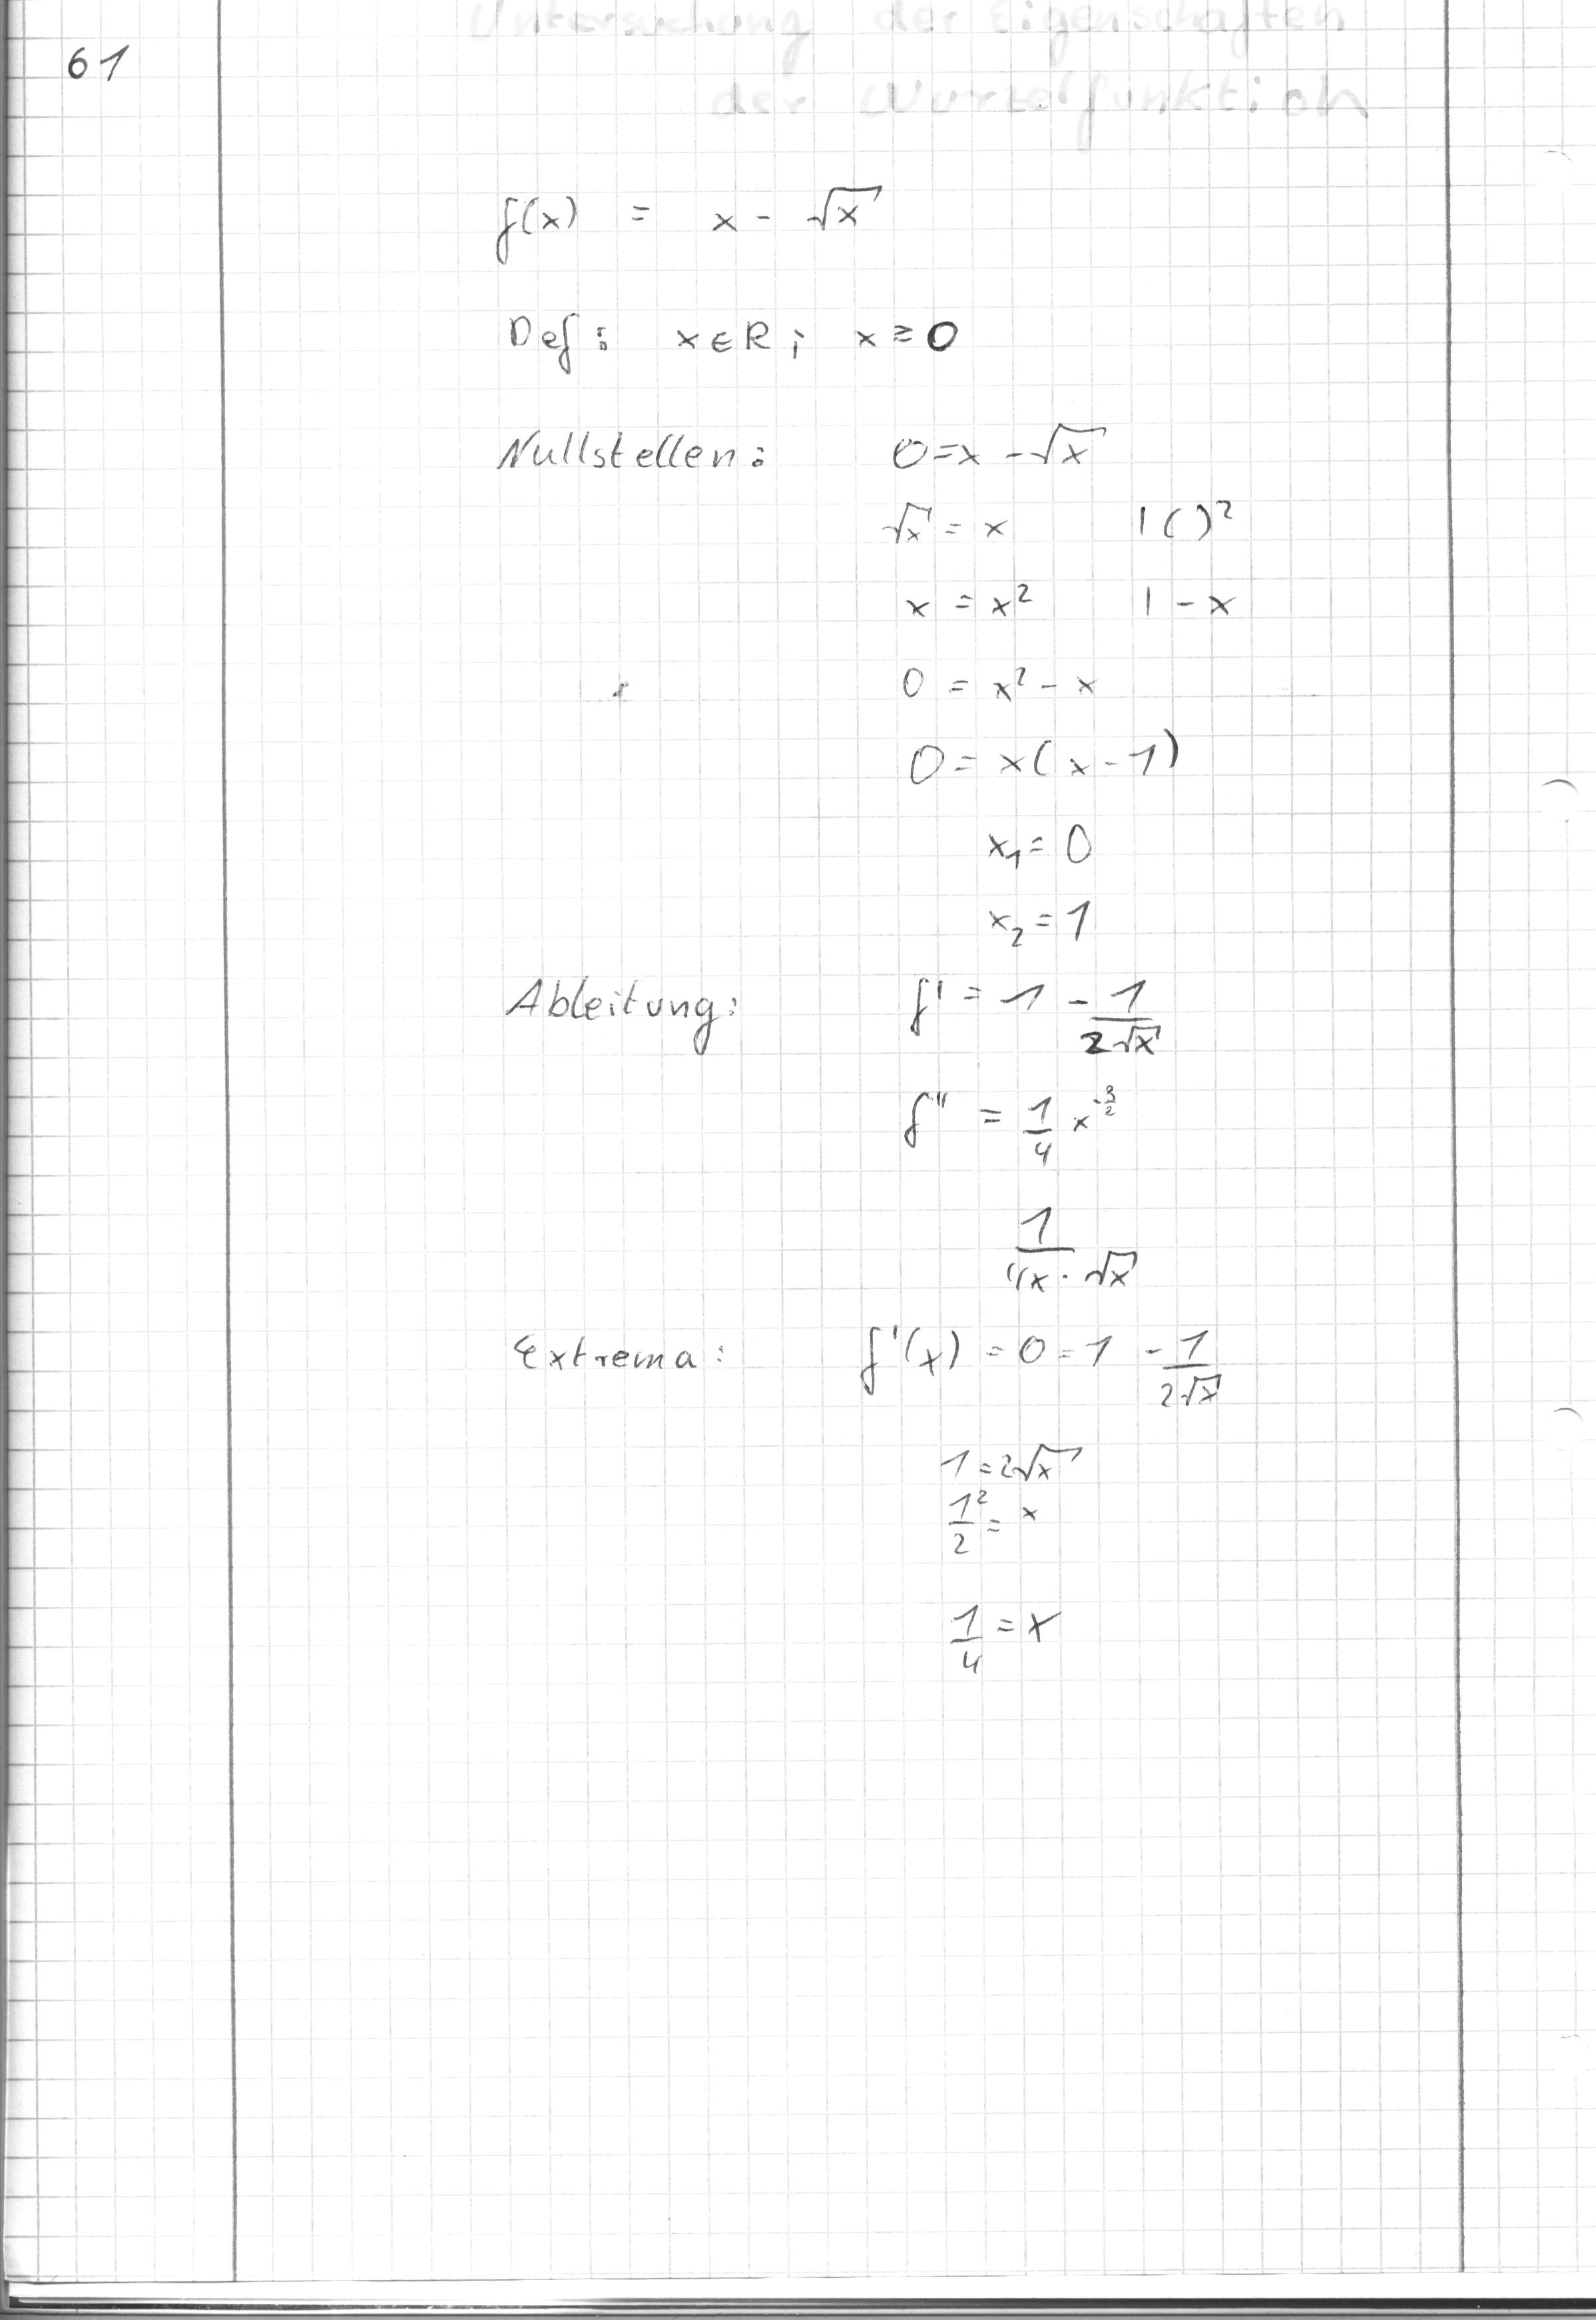word: (818, 1301, 1247, 1689), (859, 403, 1264, 785), (445, 139, 1012, 380), (888, 962, 1215, 1176), (482, 1281, 763, 1416), (477, 942, 778, 1066), (943, 1179, 1183, 1324), (954, 796, 1151, 968), (473, 408, 795, 510)
